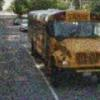buses: (28, 9, 100, 86)
